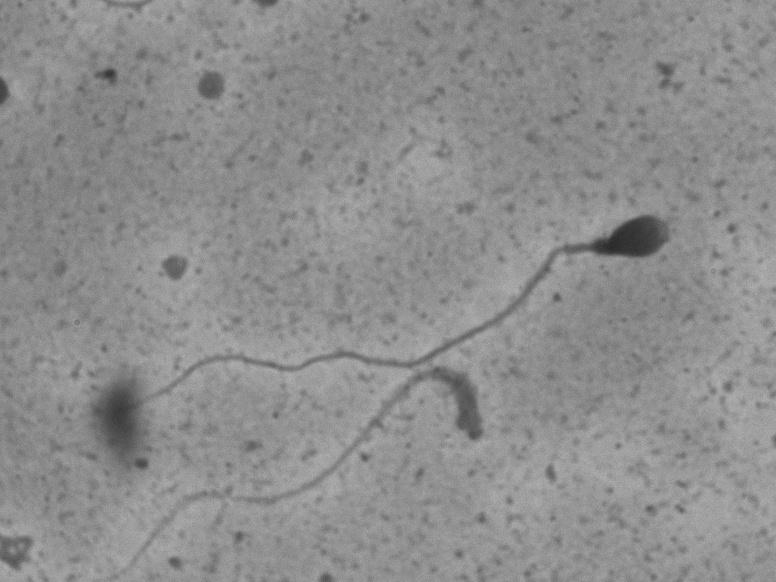Abnormal: (57, 188, 685, 439)
